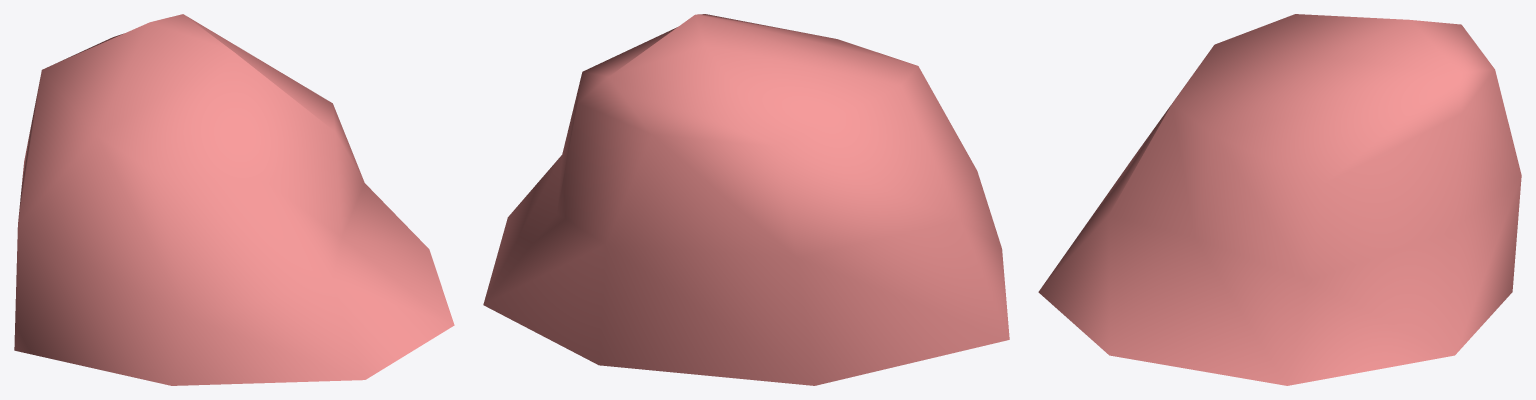
File: beachBstone5.gltf
3 renders of one model, left to right at view 1: azimuth 30°, elevation 25°; view 2: azimuth 150°, elevation 25°; view 3: azimuth 270°, elevation 25°, orthographic. The views are drawn at different scales.
Parts seen in each view (by area): view 1: beachBstone5; view 2: beachBstone5; view 3: beachBstone5.
Part boxes in pixels (x1,y1,x2,y2): beachBstone5: (14,14,454,385); beachBstone5: (483,14,1009,385); beachBstone5: (1038,14,1521,385).
Size of the model in its own units: 2.02 by 1.11 by 1.93.
